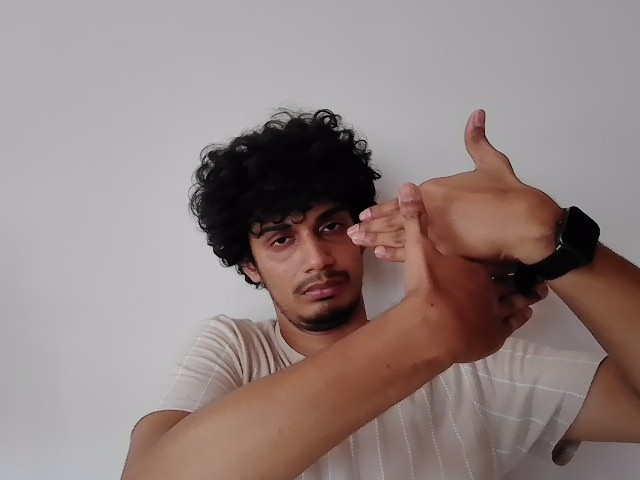work: (357, 93, 551, 328)
